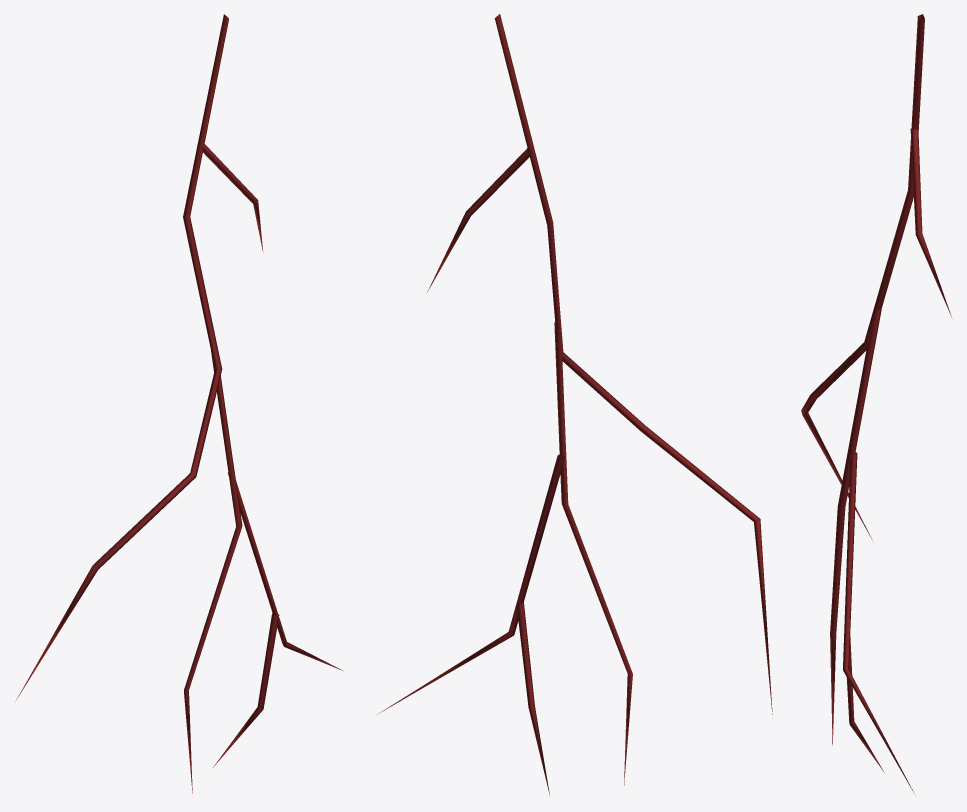
The model's file is Nerve.glb.
The picture shows the model from 3 angles, left to right: view 1: azimuth 30°, elevation 25°; view 2: azimuth 150°, elevation 25°; view 3: azimuth 270°, elevation 25°; orthographic projection. The views are drawn at different scales.
Visible parts, largest first — view 1: NurbsPath; view 2: NurbsPath; view 3: NurbsPath.
Boxes of the visible parts, x1,y1,x2,y2 form: NurbsPath: (15, 14, 342, 793); NurbsPath: (378, 14, 772, 795); NurbsPath: (801, 14, 951, 793).
Bounding box in the file's own units: 4.36 × 8.72 × 1.54.
